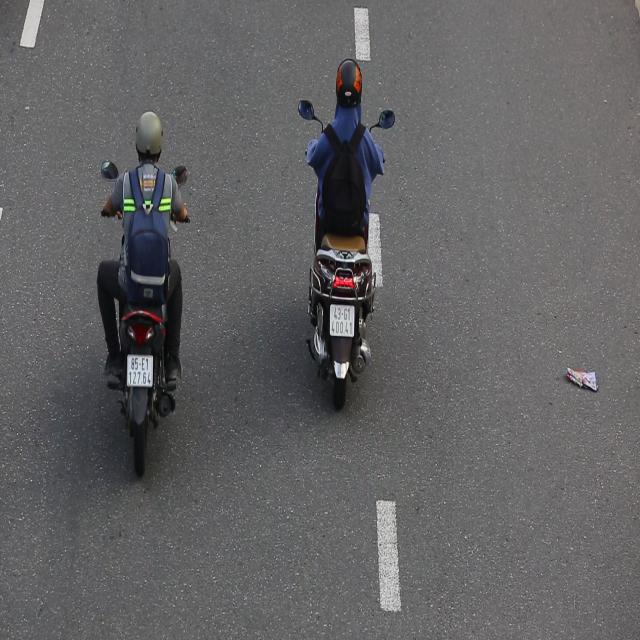motorbike: (87, 97, 199, 486), (289, 42, 399, 424)
